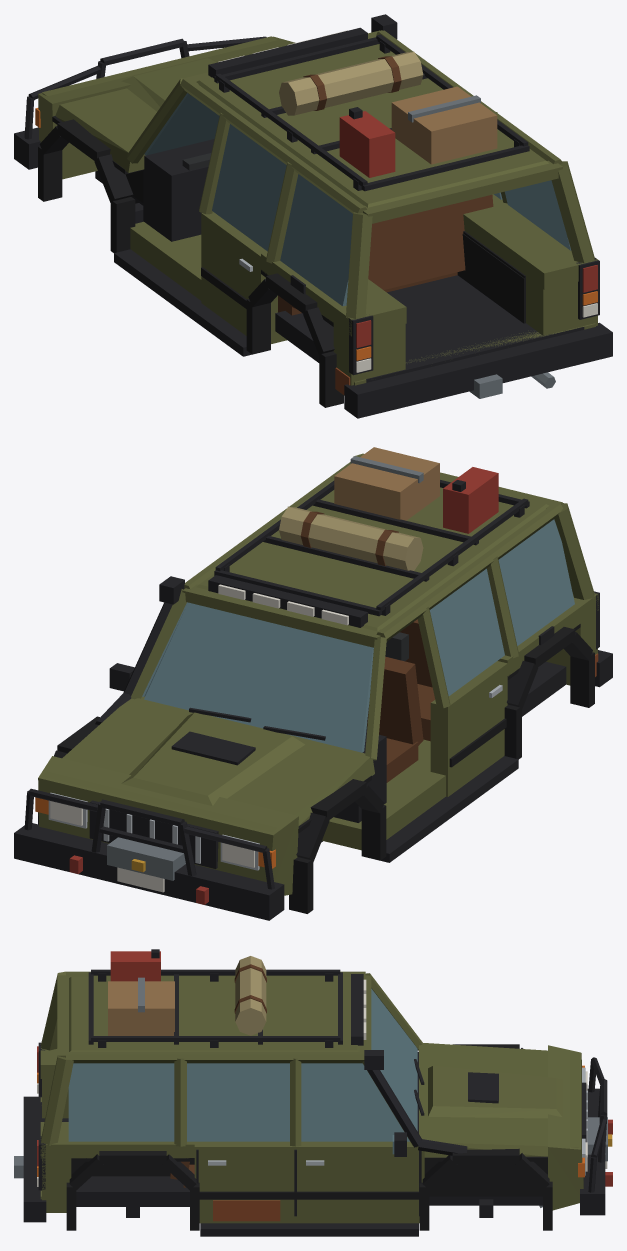
File: car_hatchback_olive.glb
3 views of the same model, one above another, from view 1: azimuth 30°, elevation 25°; view 2: azimuth 150°, elevation 25°; view 3: azimuth 270°, elevation 25° (orthographic). The views are drawn at different scales.
Visible parts, largest first — view 1: body; view 2: body; view 3: body.
Part boxes in pixels (bbox=[...]): body: bbox=[14, 14, 612, 418]; body: bbox=[14, 447, 612, 920]; body: bbox=[14, 949, 612, 1236].
Size of what is drawn, in the model's own units: 2 by 1.72 by 4.27.
Materials: 2 (2 with a texture image).
